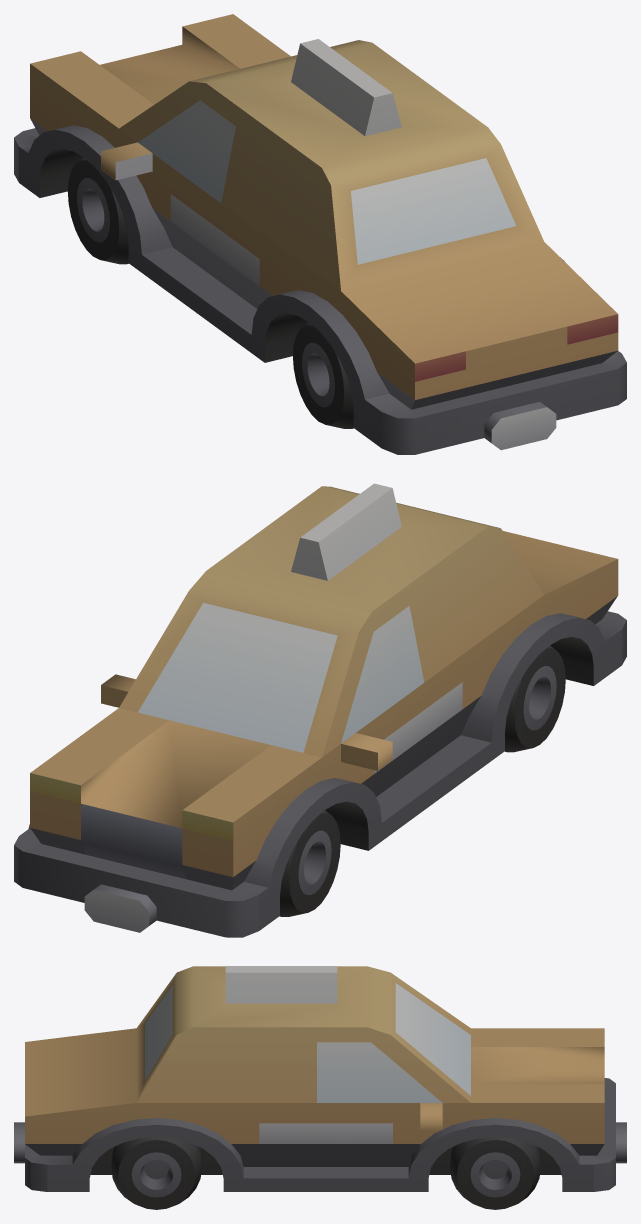
Rendered from taxi.glb.
3 renders of one model, top to bottom at view 1: azimuth 30°, elevation 25°; view 2: azimuth 150°, elevation 25°; view 3: azimuth 270°, elevation 25°, orthographic. The views are drawn at different scales.
Visible parts, largest first — view 1: body, wheel-back-left, wheel-front-left; view 2: body, wheel-back-left, wheel-front-left; view 3: body, wheel-front-right, wheel-back-right.
Part boxes in pixels (left/top/right/bottom): body: left=14, top=14, right=626, bottom=454; wheel-back-left: left=293, top=322, right=353, bottom=428; wheel-front-left: left=67, top=157, right=128, bottom=264; body: left=14, top=483, right=626, bottom=937; wheel-back-left: left=505, top=645, right=565, bottom=752; wheel-front-left: left=279, top=810, right=340, bottom=916; body: left=14, top=966, right=626, bottom=1191; wheel-front-right: left=450, top=1137, right=540, bottom=1209; wheel-back-right: left=111, top=1137, right=201, bottom=1209.
Bounding box in the file's own units: 1.9 × 1.8 × 4.84.
1 material, 1 textured.
